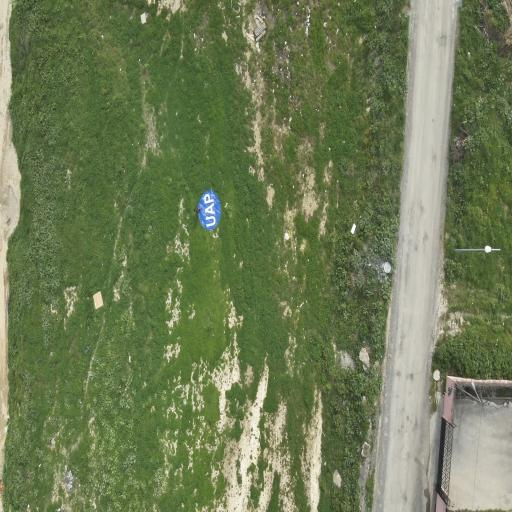UAP: (199, 191, 221, 230)
person: (194, 207, 201, 213)
